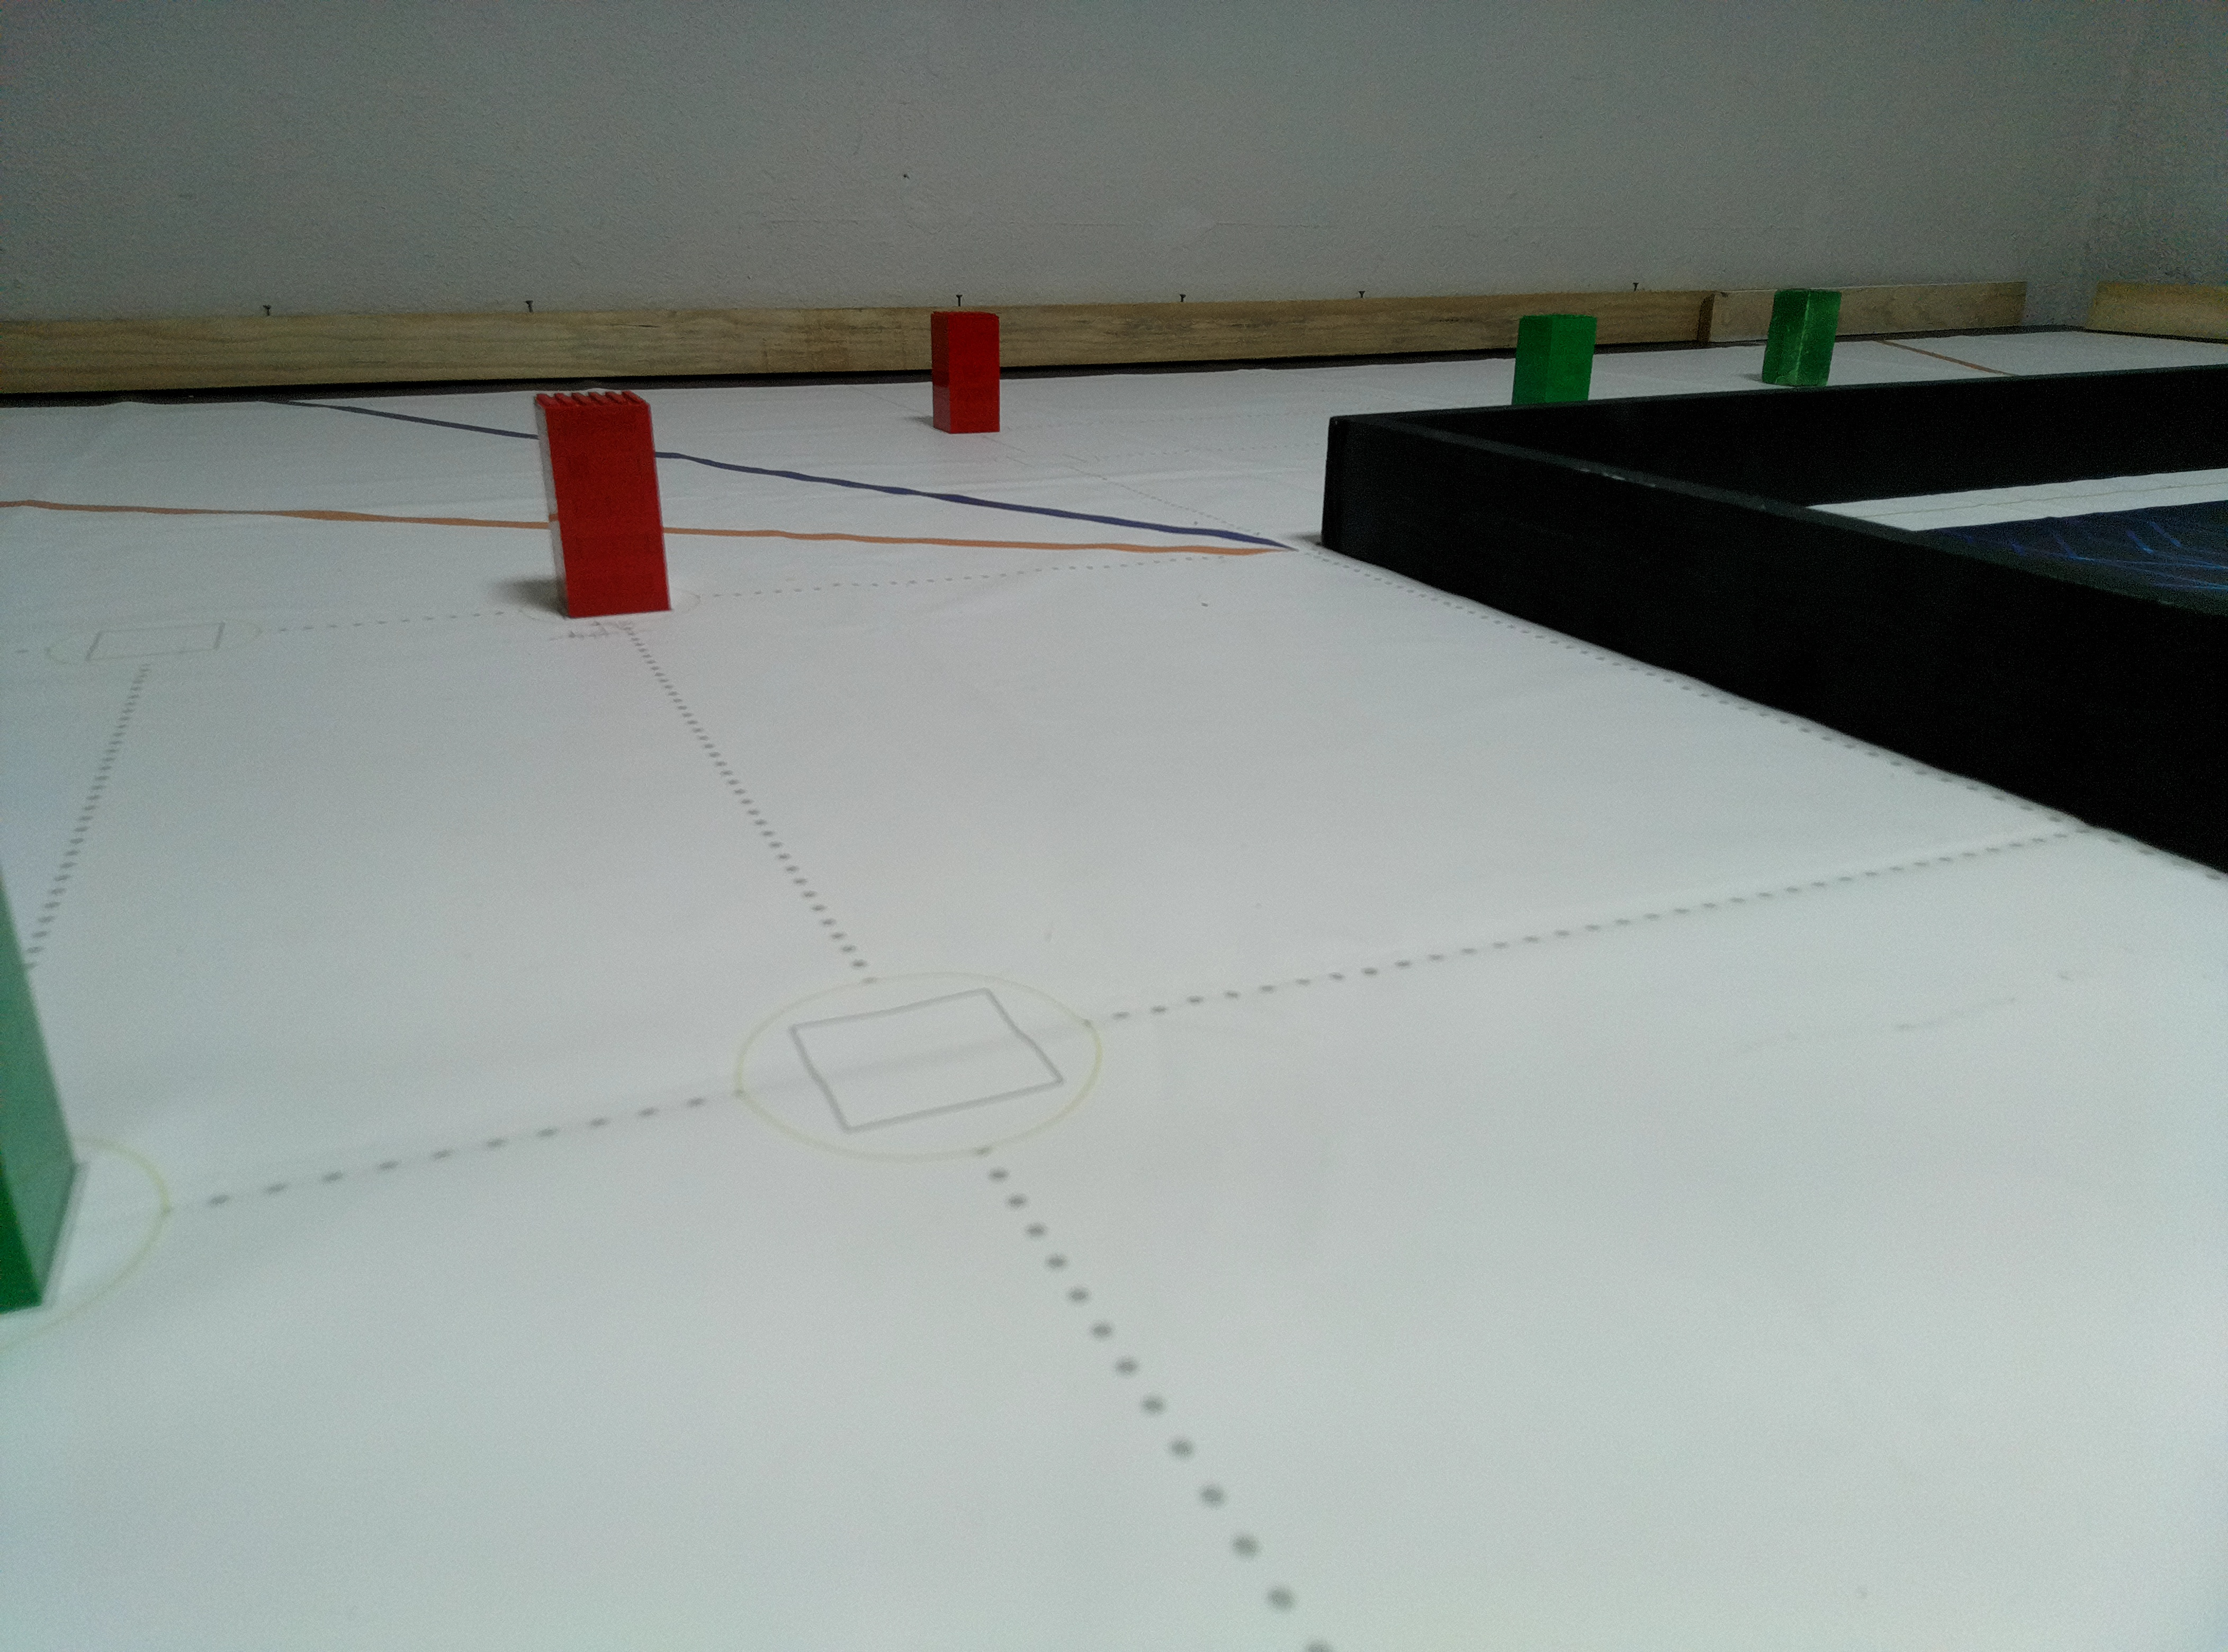greenbox: (0, 866, 80, 1310), (1759, 288, 1843, 385), (1510, 314, 1598, 404)
redbox: (529, 392, 677, 619), (928, 309, 1001, 434)
